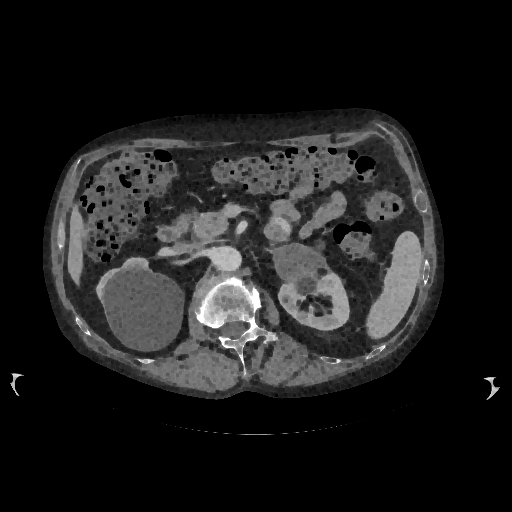Lesion: (266, 242, 336, 285)
